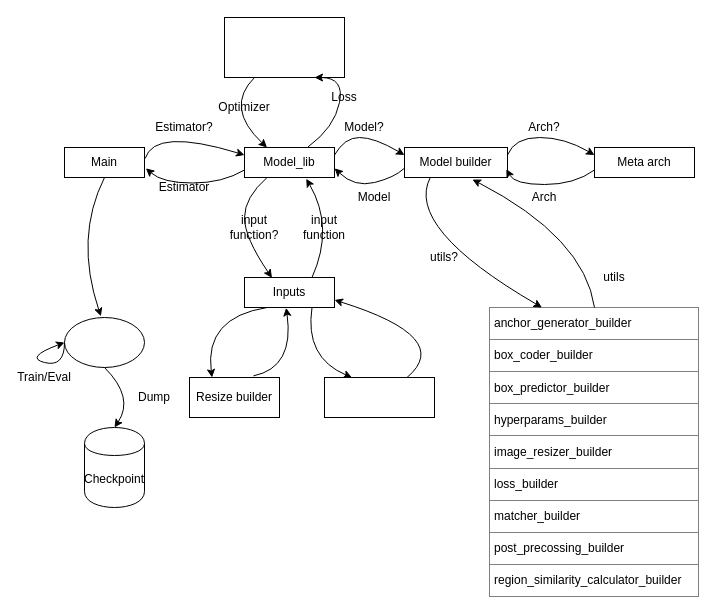
The diagram is 716 pixels wide and 615 high, and some of its shapes have lost their labels. The box of each missing label's shape, as (x1, y1, x2, y2) in pixels:
Dataset builder: (324, 376, 434, 418)
Optimizer builder: (224, 16, 344, 78)
Session: (64, 316, 144, 368)
